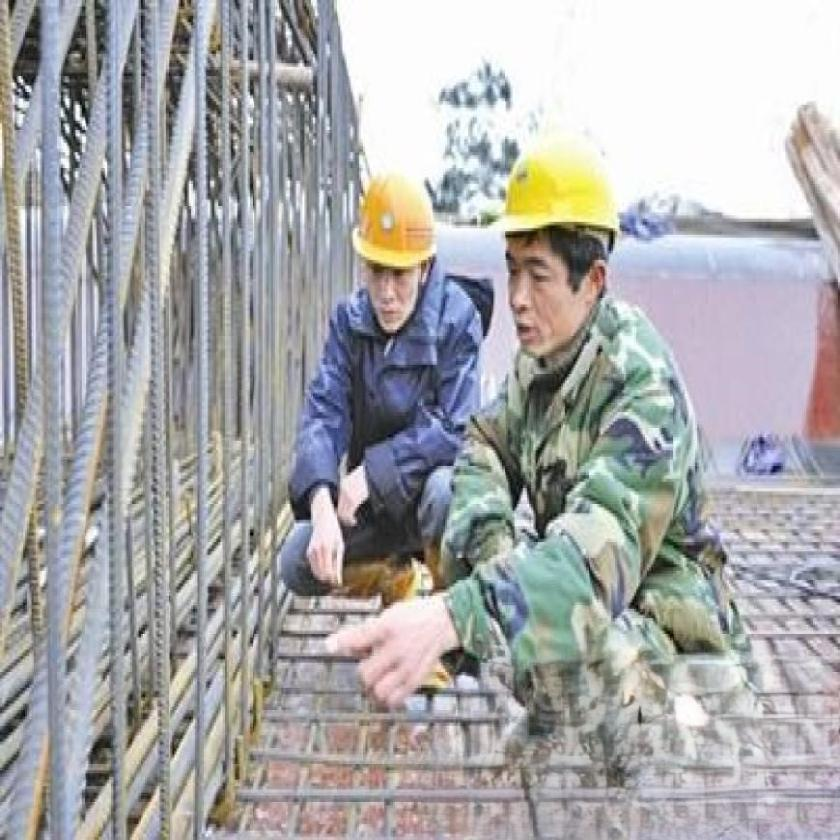Con_casco: (485, 136, 616, 357), (352, 158, 440, 326)
